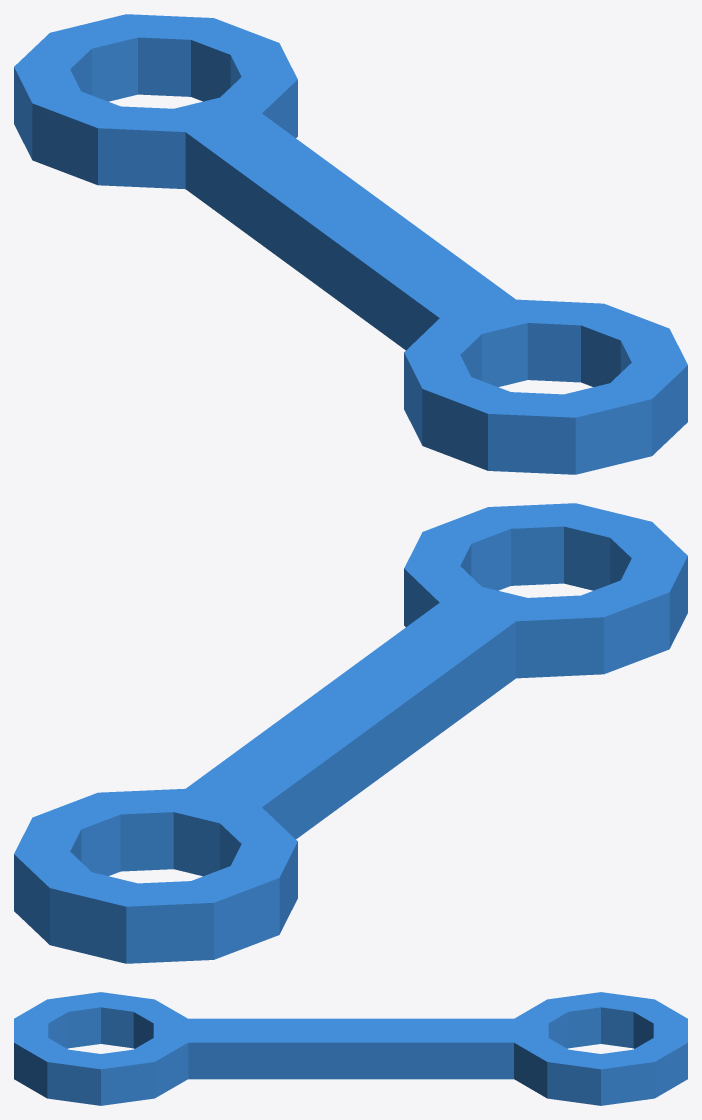
The model's file is Wrench_2.fbx.
The picture shows the model from 3 angles, top to bottom: view 1: azimuth 30°, elevation 25°; view 2: azimuth 150°, elevation 25°; view 3: azimuth 270°, elevation 25°; orthographic projection. The views are drawn at different scales.
Parts seen in each view (by area): view 1: Wrench_2; view 2: Wrench_2; view 3: Wrench_2.
Boxes of the visible parts, x1=… form: Wrench_2: x1=14, y1=14, x2=687, y2=474; Wrench_2: x1=14, y1=503, x2=687, y2=963; Wrench_2: x1=14, y1=992, x2=687, y2=1105.
Bounding box in the file's own units: 4.92 × 1.09 × 18.13.
Materials: 1 (1 with a texture image).
